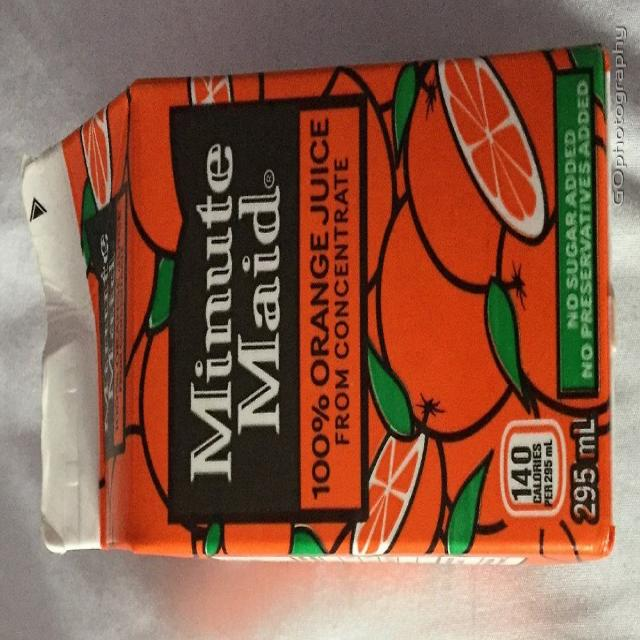non_white_jug: (19, 42, 617, 568)
